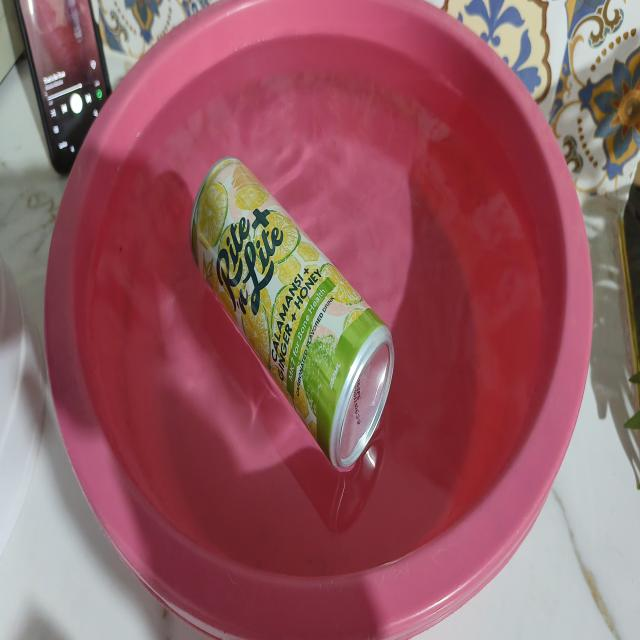Aluminum Can: (191, 158, 394, 468)
